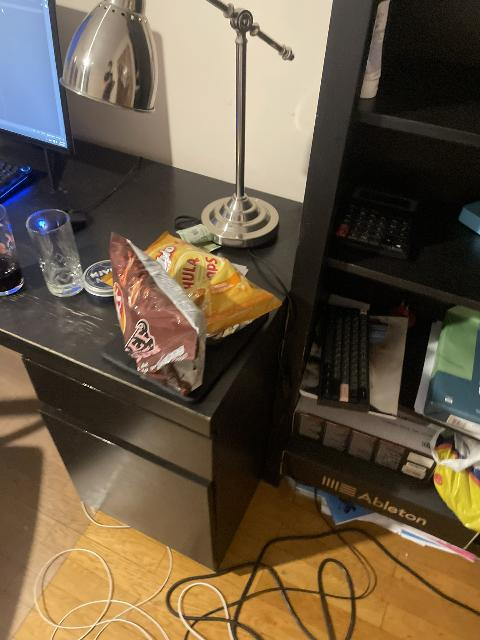Chio Hula Hoops Cheese 70g: (140, 232, 275, 336)
Lays Beef Grilled Ribs 125g: (106, 231, 210, 398)
